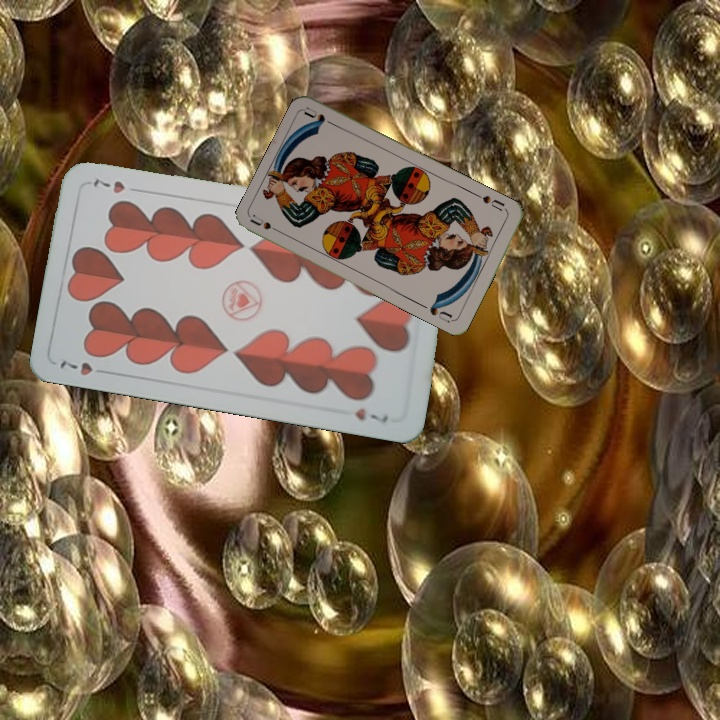H7: (55, 357, 113, 378)
SU: (247, 211, 286, 237), (472, 190, 510, 215)
